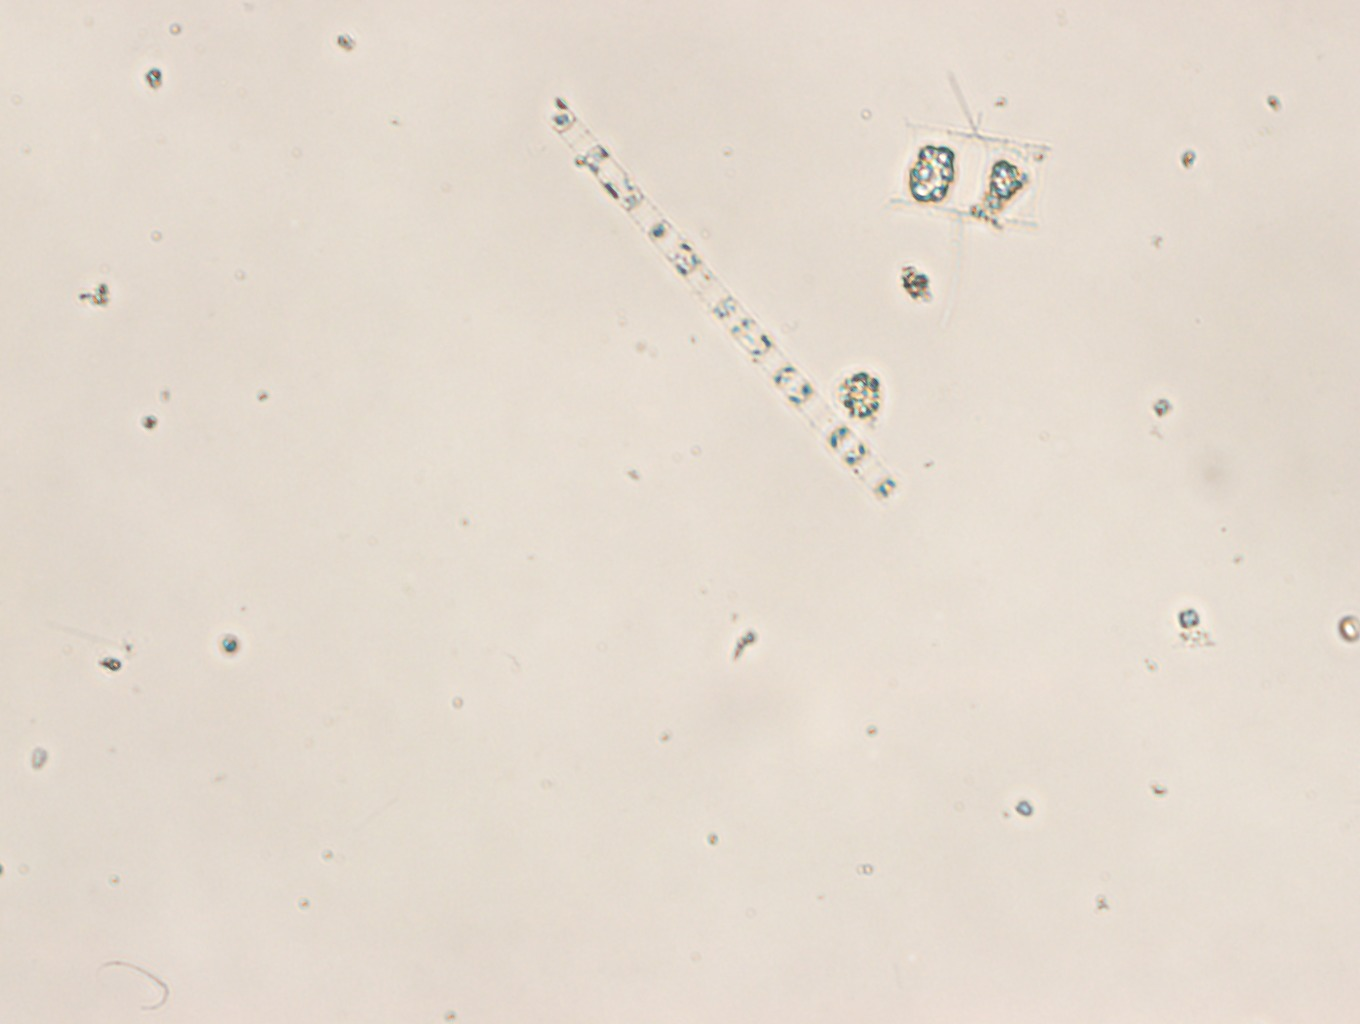chaetoceros: (890, 74, 1055, 257)
skeletonema: (548, 98, 894, 506)
